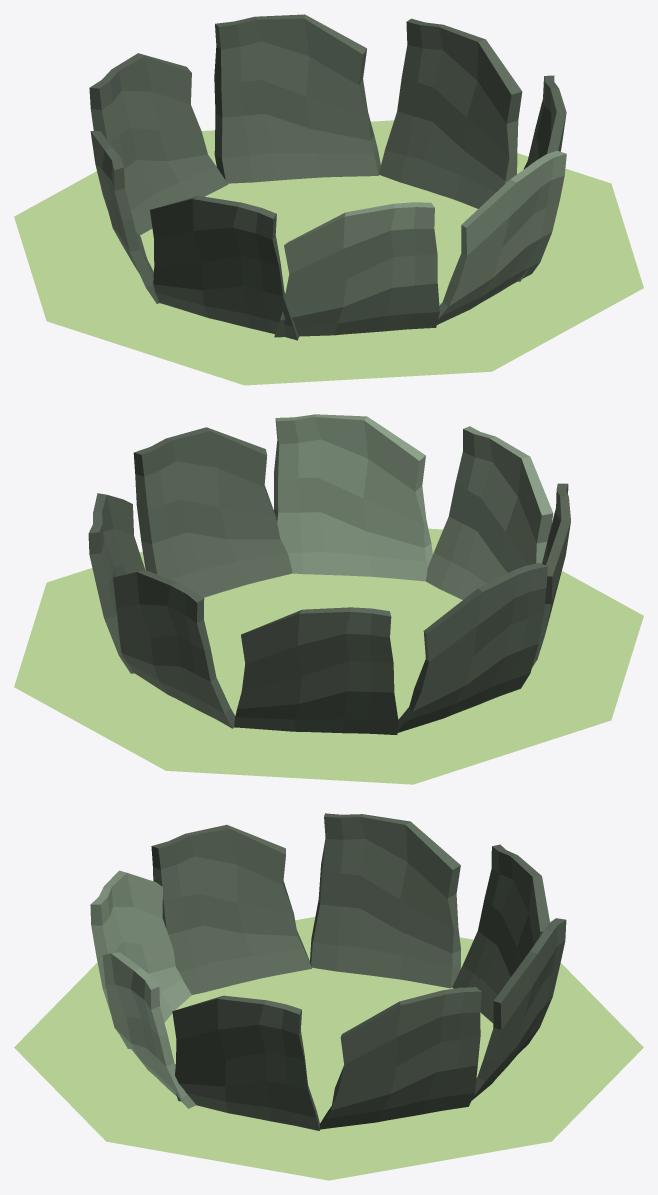
The model's file is GenbuStage5_FinalBoss.fbx.
3 views of the same model, one above another, from view 1: azimuth 30°, elevation 25°; view 2: azimuth 150°, elevation 25°; view 3: azimuth 270°, elevation 25° (orthographic). The views are drawn at different scales.
Visible parts, largest first — view 1: Plane.065, Plane.069, Plane.068, Plane.073, Plane.072, Plane.070, Plane.074, Plane.071, Plane.067; view 2: Plane.065, Plane.074, Plane.067, Plane.070, Plane.071, Plane.073, Plane.069, Plane.068, Plane.072; view 3: Plane.065, Plane.071, Plane.072, Plane.068, Plane.067, Plane.070, Plane.073, Plane.069, Plane.074.
Boxes of the visible parts, box(x1,y1,x2,y2) form: Plane.065: box(14, 120, 643, 385); Plane.069: box(214, 14, 380, 183); Plane.068: box(379, 18, 522, 208); Plane.073: box(274, 202, 439, 337); Plane.072: box(150, 196, 298, 340); Plane.070: box(89, 53, 227, 235); Plane.074: box(430, 151, 566, 328); Plane.071: box(90, 131, 159, 303); Plane.067: box(518, 75, 566, 281); Plane.065: box(14, 528, 643, 784); Plane.074: box(273, 414, 432, 581); Plane.067: box(133, 427, 292, 597); Plane.070: box(234, 607, 398, 734); Plane.071: box(397, 563, 547, 732); Plane.073: box(425, 426, 553, 599); Plane.069: box(113, 570, 235, 728); Plane.068: box(88, 493, 145, 673); Plane.072: box(532, 483, 570, 667); Plane.065: box(14, 917, 643, 1180); Plane.071: box(310, 813, 460, 988); Plane.072: box(151, 824, 311, 994); Plane.068: box(319, 987, 481, 1129); Plane.067: box(172, 995, 319, 1130); Plane.070: box(452, 844, 549, 1023); Plane.073: box(90, 870, 191, 1048); Plane.069: box(471, 918, 566, 1100); Plane.074: box(102, 952, 195, 1108).
Size of the model in its own units: 267 by 71.88 by 267.
